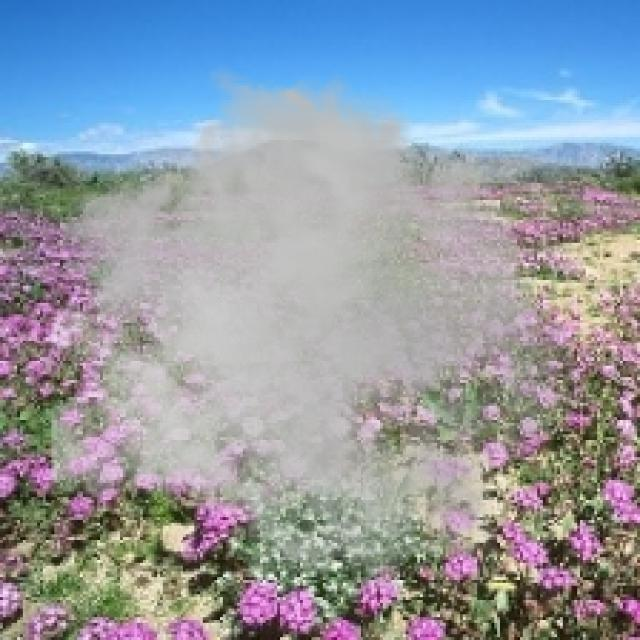smoke: (52, 63, 577, 594)
